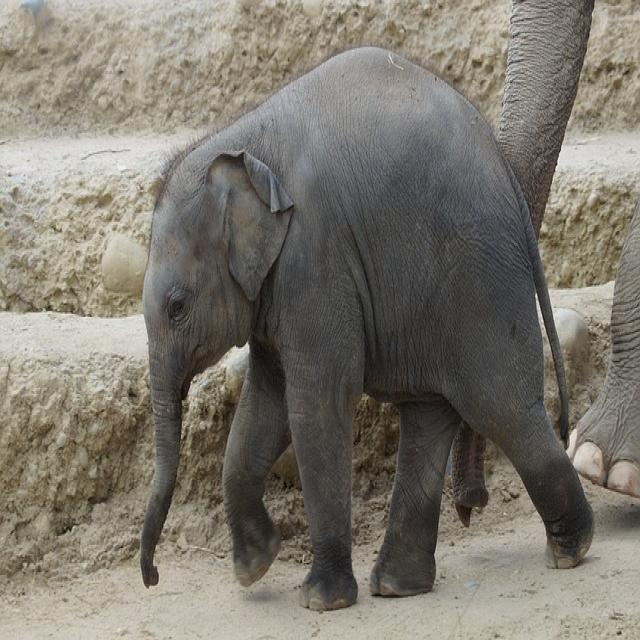elephant: (141, 47, 594, 608)
